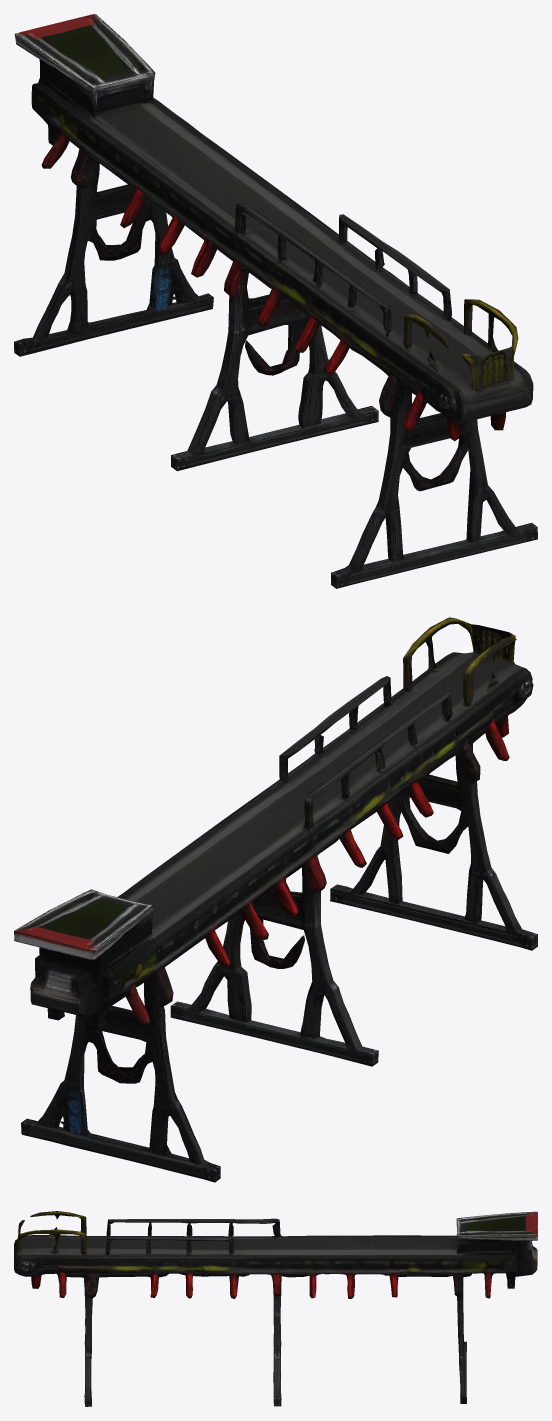
File: belt_conveyor.glb
The picture shows the model from 3 angles, top to bottom: view 1: azimuth 30°, elevation 25°; view 2: azimuth 150°, elevation 25°; view 3: azimuth 270°, elevation 25°; orthographic projection. The views are drawn at different scales.
Visible parts, largest first — view 1: world; view 2: world; view 3: world.
Part boxes in pixels (left/top/right/bottom): world: left=14, top=14, right=537, bottom=588; world: left=14, top=617, right=537, bottom=1182; world: left=14, top=1211, right=537, bottom=1406.
Size of the model in its own units: 0.2637 by 0.3311 by 0.9995.
1 material, 1 textured.
